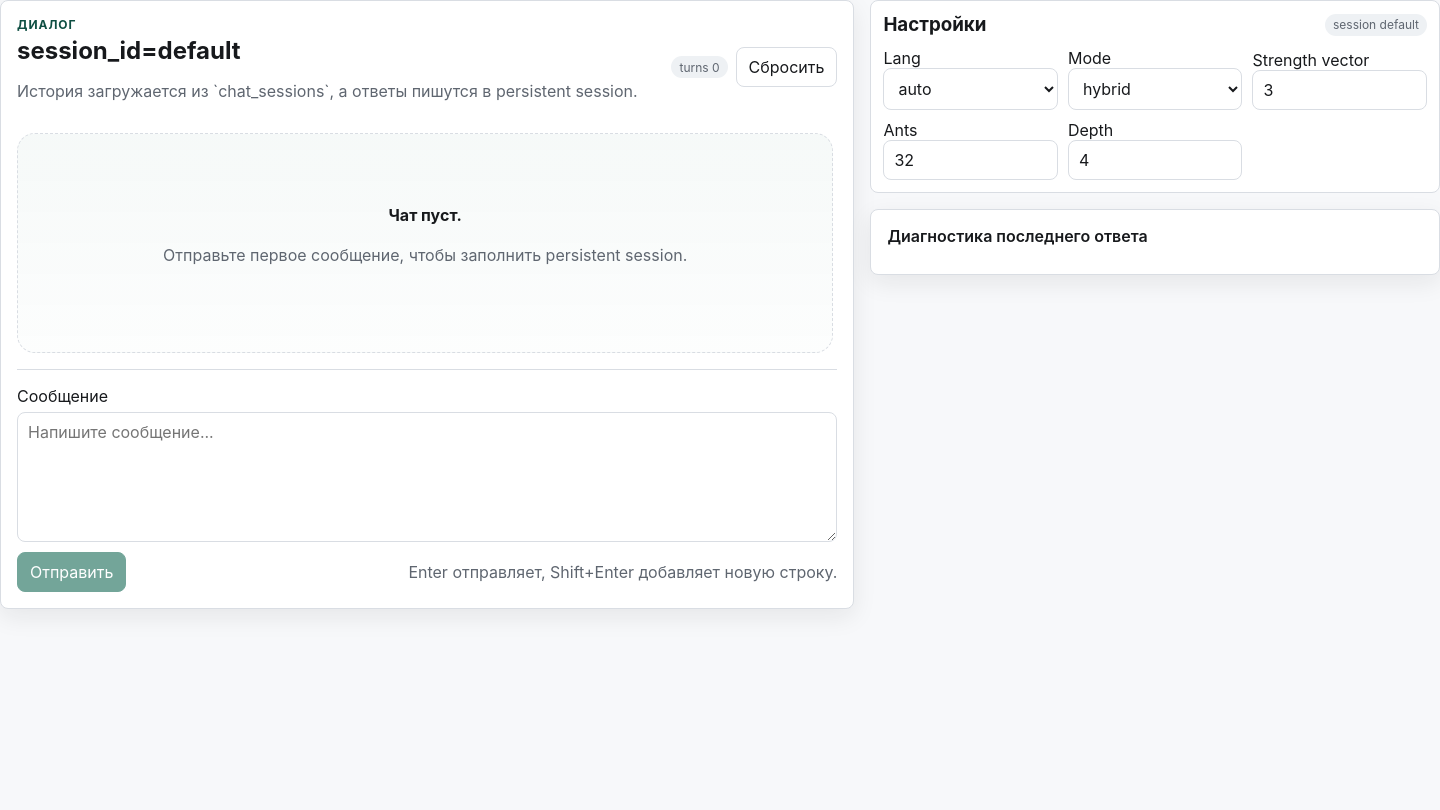
it: ChatPage › renders session history and latest diagnostics after sending a message
Step 1. Type "hello" into the text box labelled "Сообщение" → coordinates (427, 477), box x1=17 y1=412 x2=837 y2=542
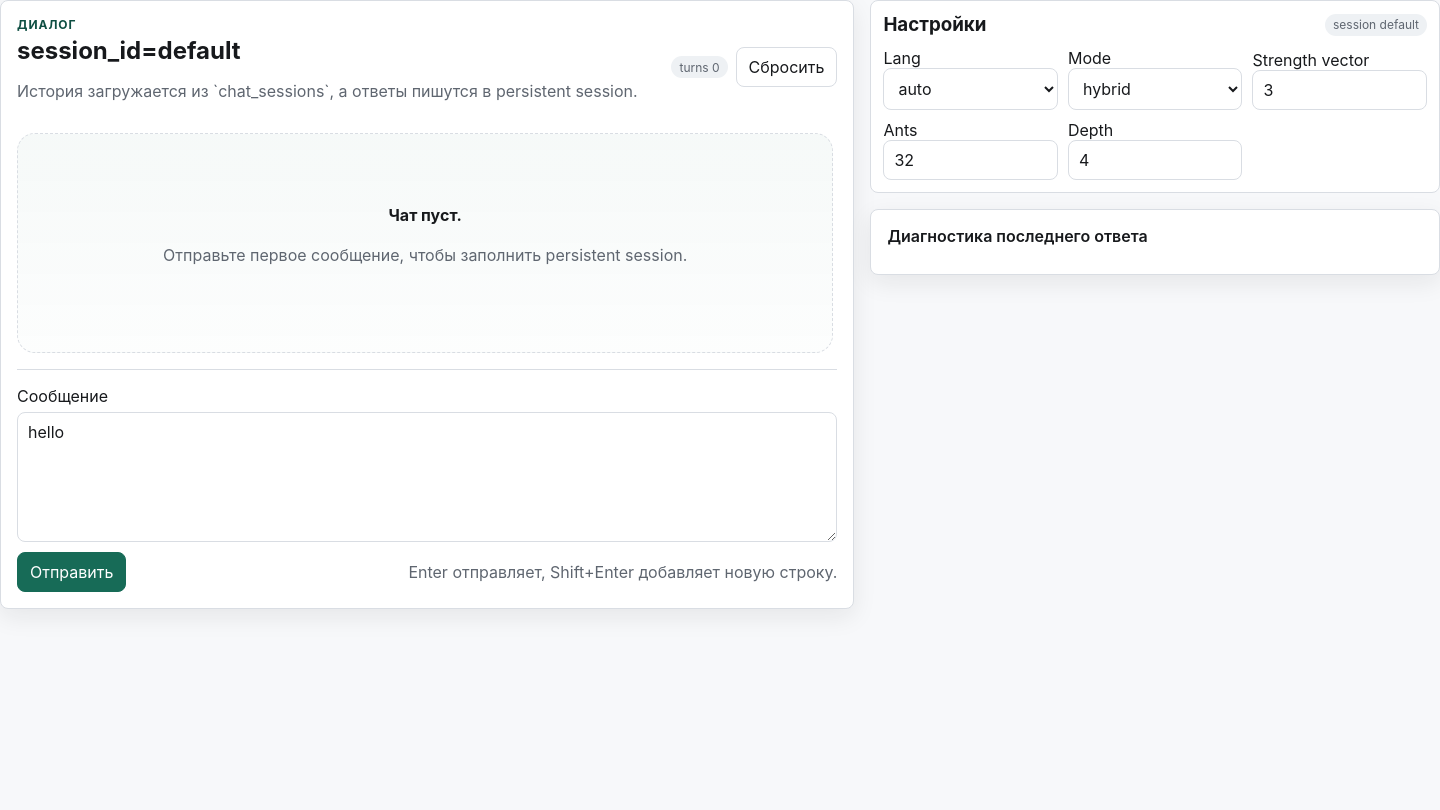
Step 2. Submit the form, box x1=17 y1=369 x2=837 y2=592
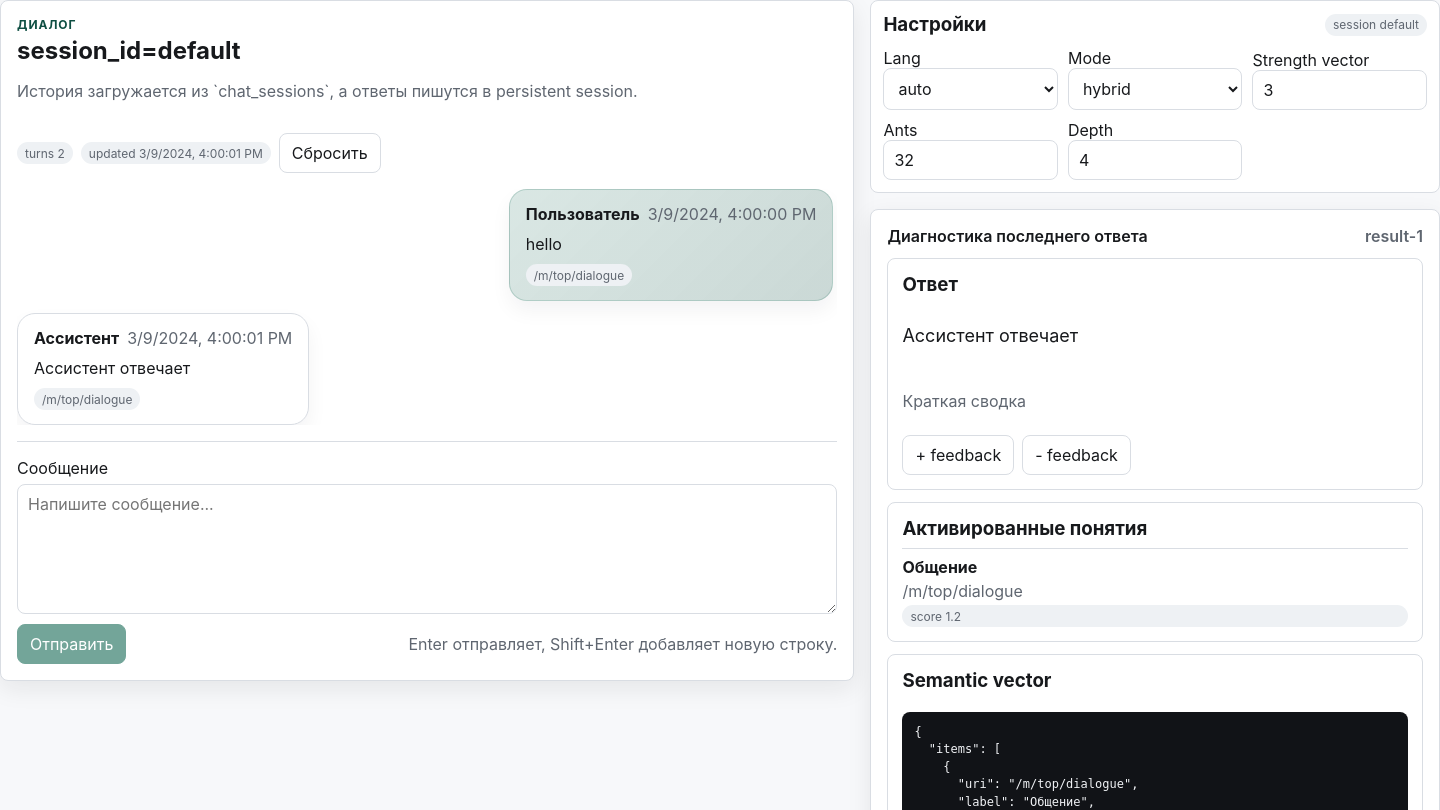
Expected: the text "hello" is shown, x1=526 y1=234 x2=562 y2=254
Expected: the text "Ассистент отвечает" is shown, x1=34 y1=358 x2=190 y2=378
Expected: the text "Semantic vector" is shown, x1=902 y1=669 x2=1052 y2=692
